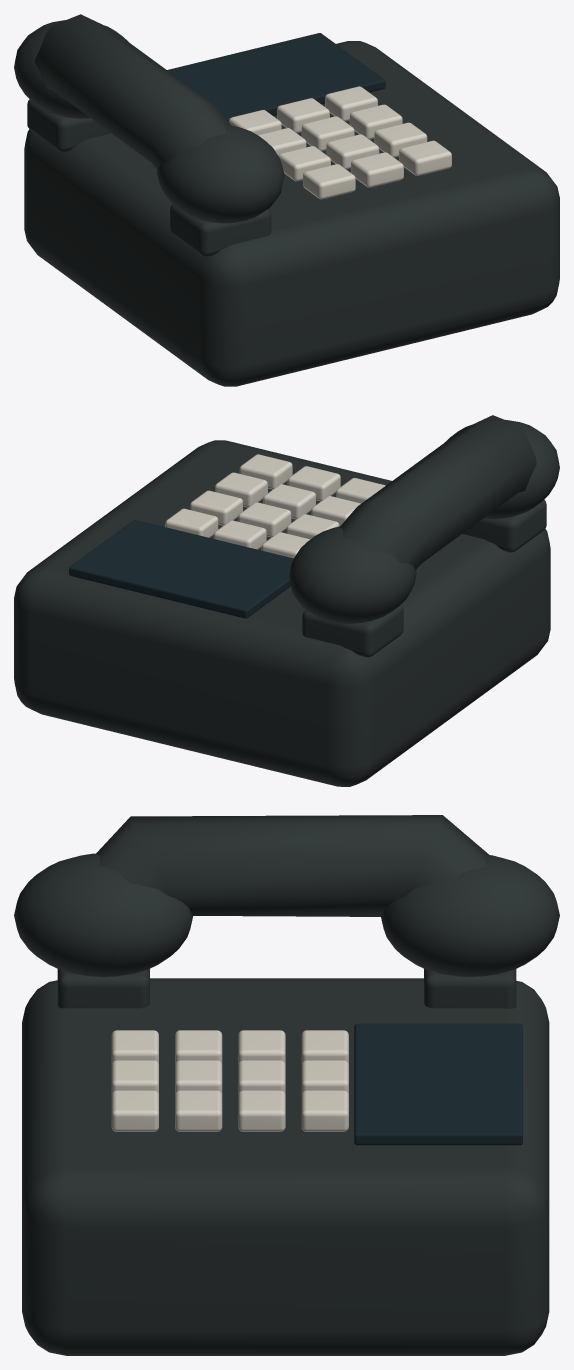
Rendered from office_phone.glb.
The picture shows the model from 3 angles, top to bottom: view 1: azimuth 30°, elevation 25°; view 2: azimuth 150°, elevation 25°; view 3: azimuth 270°, elevation 25°; orthographic projection. The views are drawn at different scales.
Visible parts, largest first — view 1: Handset acoustic cap, Telephone dial key, Telephone display; view 2: Handset acoustic cap, Telephone display, Telephone dial key; view 3: Handset acoustic cap, Telephone display, Telephone dial key.
Boxes of the visible parts, <box> form: Handset acoustic cap: <box>14,14,559,386</box>; Telephone dial key: <box>229,86,451,199</box>; Telephone display: <box>167,33,385,121</box>; Handset acoustic cap: <box>14,415,559,786</box>; Telephone display: <box>69,520,293,618</box>; Telephone dial key: <box>165,454,385,558</box>; Handset acoustic cap: <box>14,815,559,1355</box>; Telephone display: <box>354,1023,522,1145</box>; Telephone dial key: <box>111,1030,348,1131</box>.
Bounding box in the file's own units: 0.2102 × 0.1421 × 0.207.
Materials: 3 (3 with a texture image).
